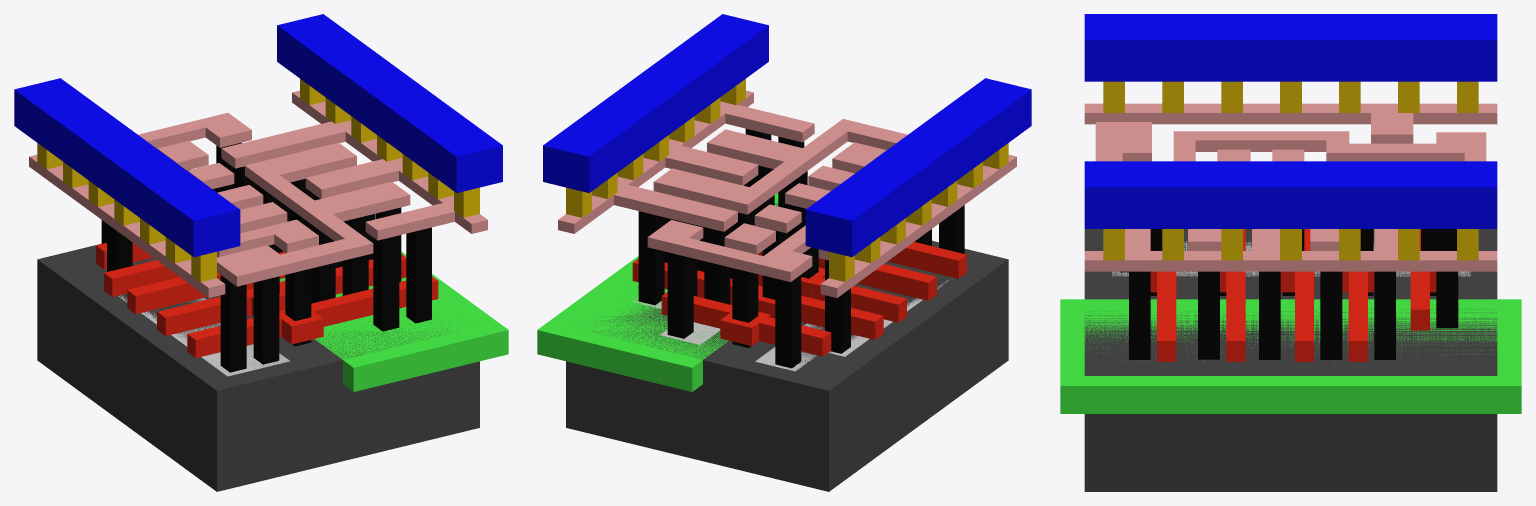
File: sky130_fd_sc_hd__nand4b_1.obj
3 views of the same model, side by side, from view 1: azimuth 30°, elevation 25°; view 2: azimuth 150°, elevation 25°; view 3: azimuth 270°, elevation 25° (orthographic). The views are drawn at different scales.
Visible parts, largest first — view 1: subs, metal1, li, licon, nwell, poly, mcon, diff; view 2: subs, metal1, li, licon, nwell, poly, mcon, diff, tap; view 3: metal1, subs, li, nwell, licon, mcon, poly, diff.
Part boxes in pixels (<box>): subs: <box>37,243,479,491</box>; metal1: <box>14,14,502,257</box>; li: <box>29,90,487,297</box>; licon: <box>101,142,431,372</box>; nwell: <box>279,251,508,391</box>; poly: <box>96,242,438,357</box>; mcon: <box>37,79,479,281</box>; diff: <box>118,295,289,376</box>; subs: <box>566,203,1008,491</box>; metal1: <box>543,14,1031,257</box>; li: <box>558,90,1016,297</box>; licon: <box>638,128,964,368</box>; nwell: <box>537,193,778,391</box>; poly: <box>632,242,966,356</box>; mcon: <box>566,79,1008,281</box>; diff: <box>755,278,952,371</box>; tap: <box>631,289,720,344</box>; metal1: <box>1084,14,1497,228</box>; subs: <box>1084,229,1497,491</box>; li: <box>1084,103,1497,271</box>; nwell: <box>1060,299,1521,413</box>; licon: <box>1120,229,1458,359</box>; mcon: <box>1103,81,1478,260</box>; poly: <box>1150,229,1436,361</box>; diff: <box>1112,241,1470,276</box>.
Bounding box in the file's own units: 3.2 × 2.74 × 3.6.
